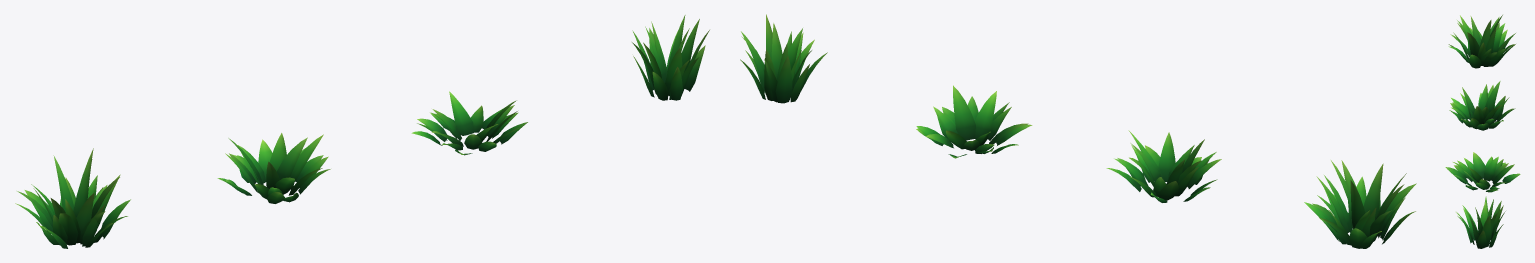
Rendered from tall_grass.glb.
3 views of the same model, side by side, from view 1: azimuth 30°, elevation 25°; view 2: azimuth 150°, elevation 25°; view 3: azimuth 270°, elevation 25° (orthographic). The views are drawn at different scales.
Parts seen in each view (by area): view 1: Tall Grass A, Tall Grass B, Tall Grass D, Tall Grass C; view 2: Tall Grass A, Tall Grass B, Tall Grass C, Tall Grass D; view 3: Tall Grass A, Tall Grass B, Tall Grass C, Tall Grass D.
Boxes of the visible parts, x1,y1,x2,y2 form: Tall Grass A: (15,148,130,248); Tall Grass B: (217,133,330,203); Tall Grass D: (632,15,709,100); Tall Grass C: (411,91,527,155); Tall Grass A: (1304,160,1416,248); Tall Grass B: (1106,130,1221,202); Tall Grass C: (916,85,1032,158); Tall Grass D: (740,14,827,103); Tall Grass A: (1448,15,1515,68); Tall Grass B: (1449,81,1515,130); Tall Grass C: (1445,152,1520,192); Tall Grass D: (1456,196,1505,248).
Bounding box in the file's own units: 5.14 × 0.584 × 0.7921.
